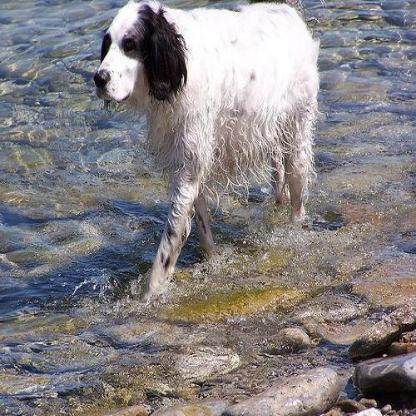English_setter: (92, 3, 333, 301)
